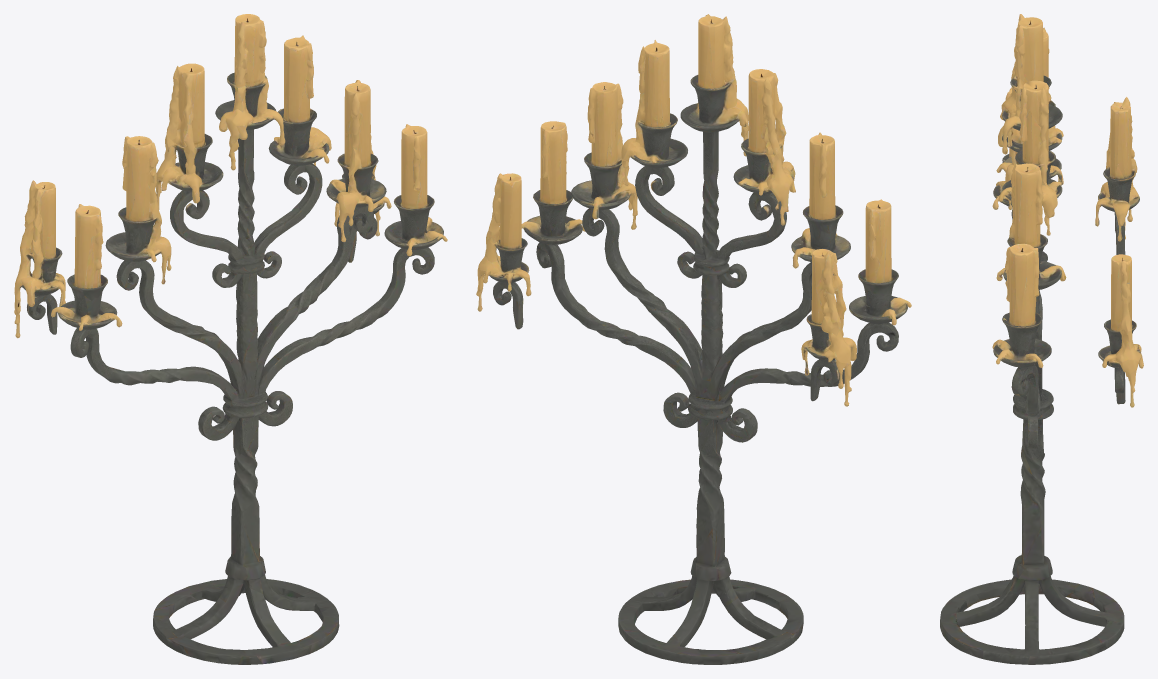
File: candelabra.glb
3 views of the same model, side by side, from view 1: azimuth 30°, elevation 25°; view 2: azimuth 150°, elevation 25°; view 3: azimuth 270°, elevation 25° (orthographic).
Parts seen in each view (by area): view 1: Mesh_0; view 2: Mesh_0; view 3: Mesh_0.
Boxes of the visible parts, left/top/right/bottom form: Mesh_0: left=14, top=14, right=447, bottom=664; Mesh_0: left=476, top=14, right=911, bottom=664; Mesh_0: left=940, top=14, right=1143, bottom=664.
Size of the model in its own units: 1.24 by 1.9 by 0.5773.
1 material, 1 textured.
